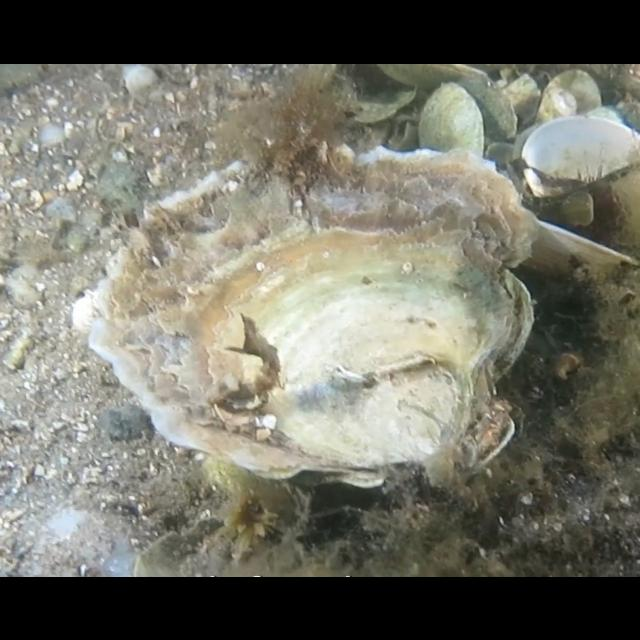Oyster-Closed: (70, 138, 540, 488)
